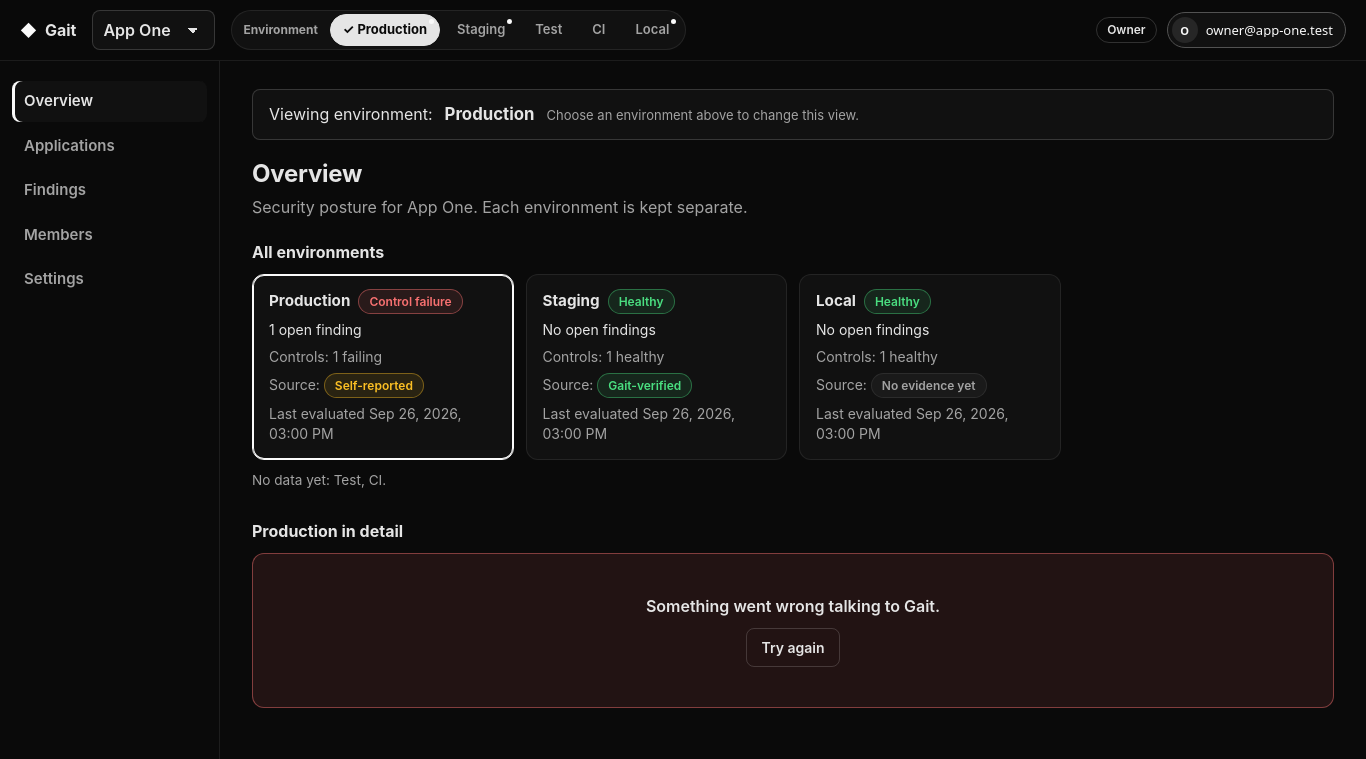
Test case: F1 Overview › other errors can be retried
Step 1. Click the button "Try again" → (793,648), box [746,628,840,667]
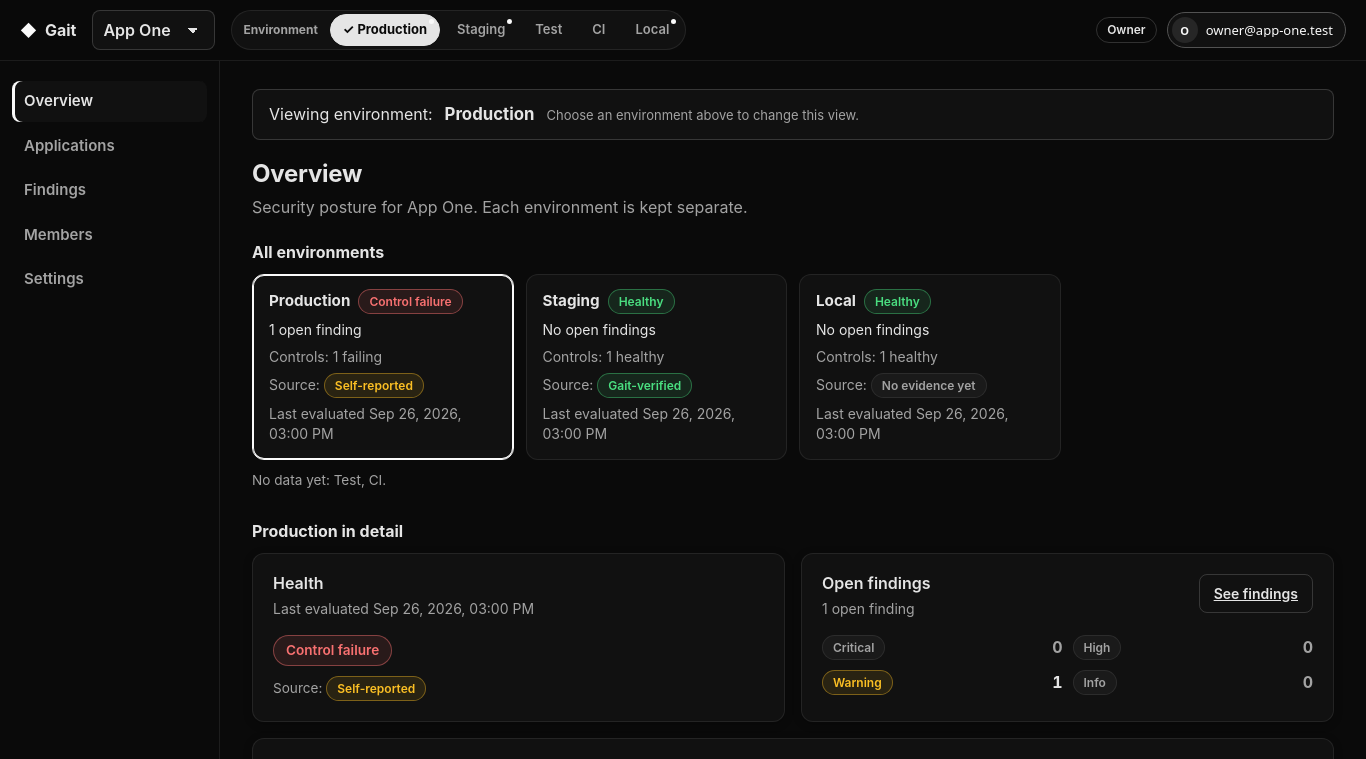
Result: the list named "Open findings by severity" is shown at [822,634,1313,695]
